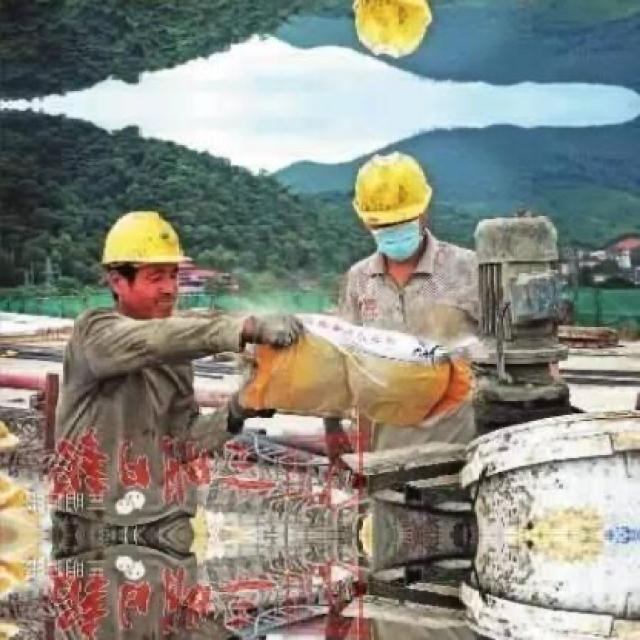con casco: (55, 199, 228, 331), (309, 139, 449, 274)
